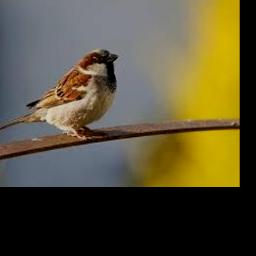Sparrow: (0, 49, 119, 141)
